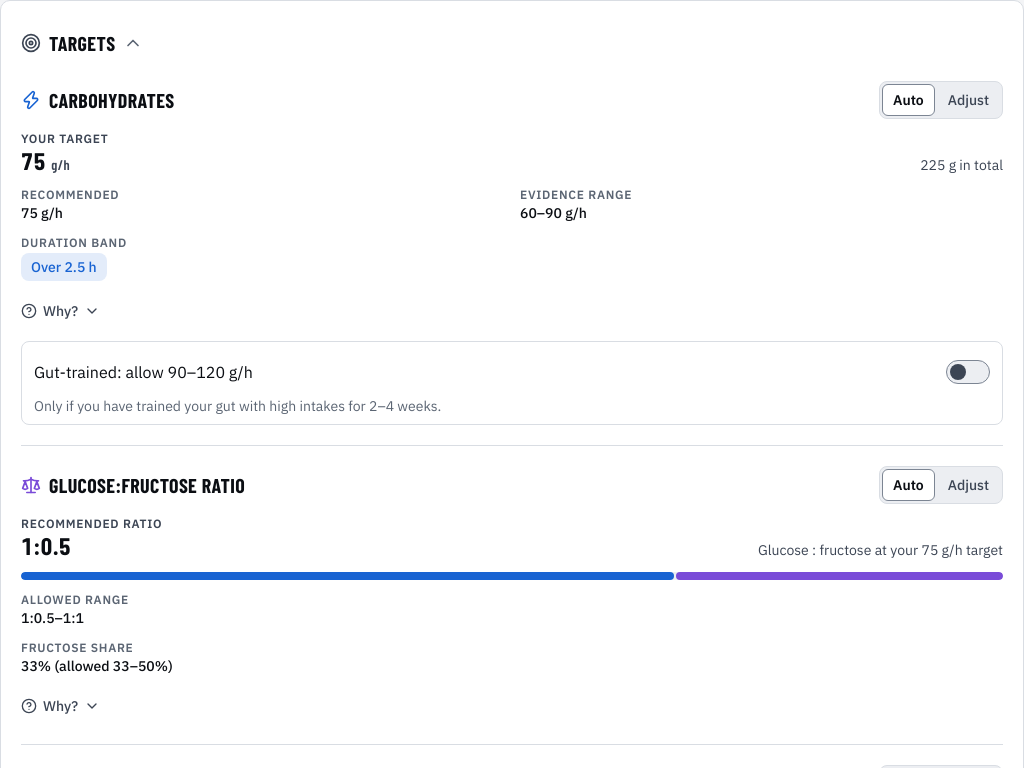
Test: TargetsSection: carbohydrate target › switches to a manual target seeded from the recommendation, with evidence warnings
The image size is (1024, 768).
Click the radio button labelled "Adjust" in the row of "Carbohydrates" at (968, 100), box [937, 84, 1000, 116]
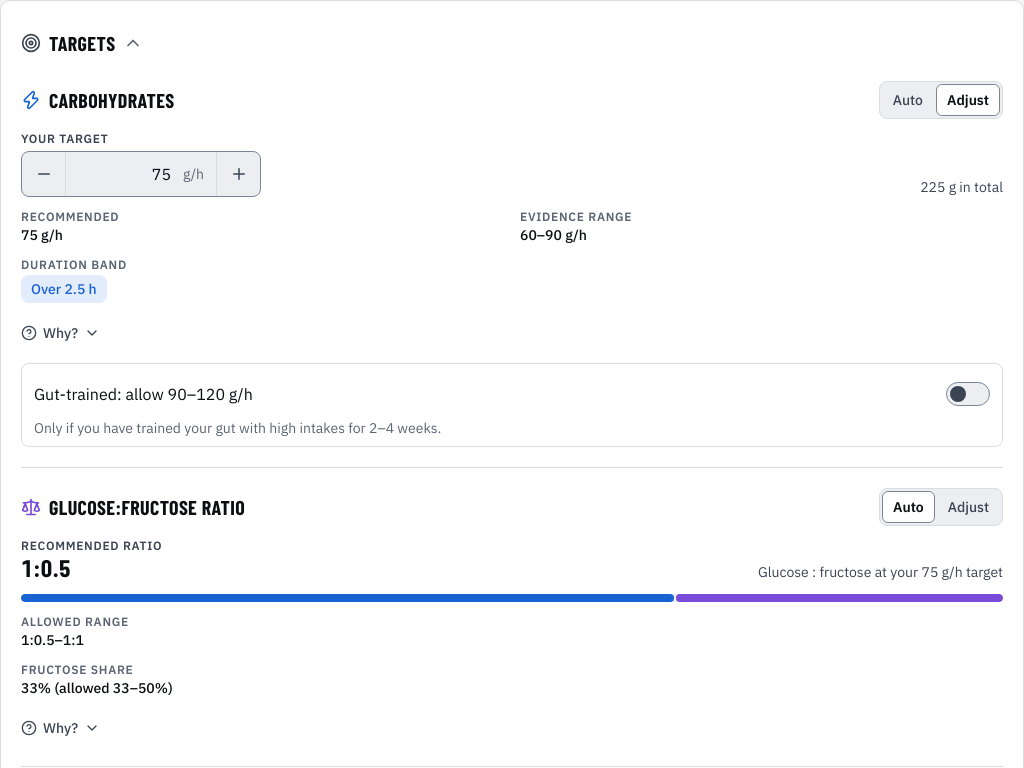
Expected: the number field labelled "Your target" holds "75"
Replace the text in the number field labelled "Your target" with "130" at (124, 174), box [66, 152, 183, 196]
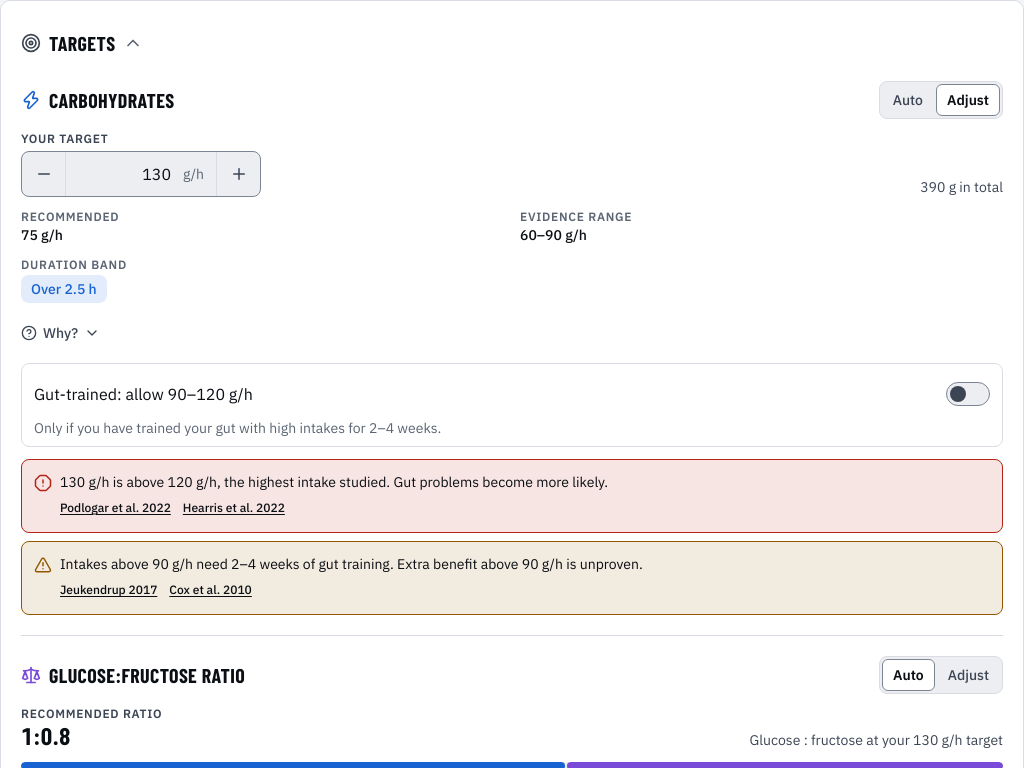
Expected: the text "75 g/h" is shown, [21, 226, 63, 244]
Expected: the text with test id "carbs-total" reads "390 g in total", [920, 178, 1003, 196]
Expected: the 1st list item shows "130 g/h is above 120 g/h, the highest intake studied. Gut problems become more likely.", [60, 473, 608, 491]
Click the radio button labelled "Auto" in the row of "Carbohydrates" at (908, 100), box [882, 84, 934, 116]
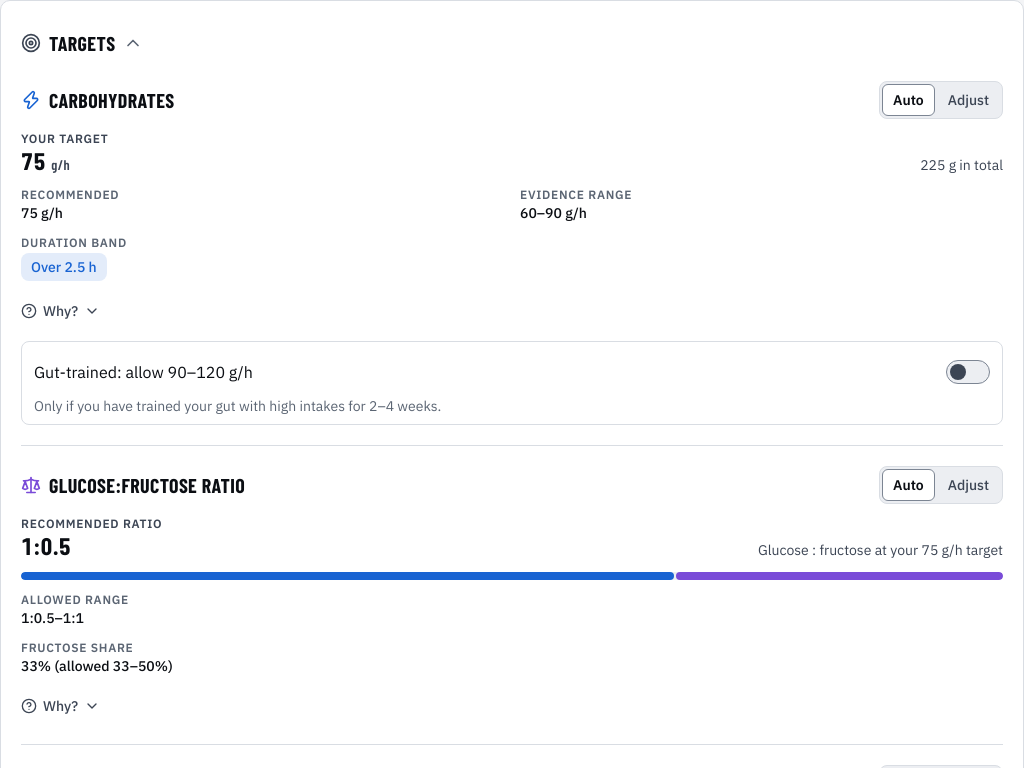
Expected: the list "Warnings" is gone
